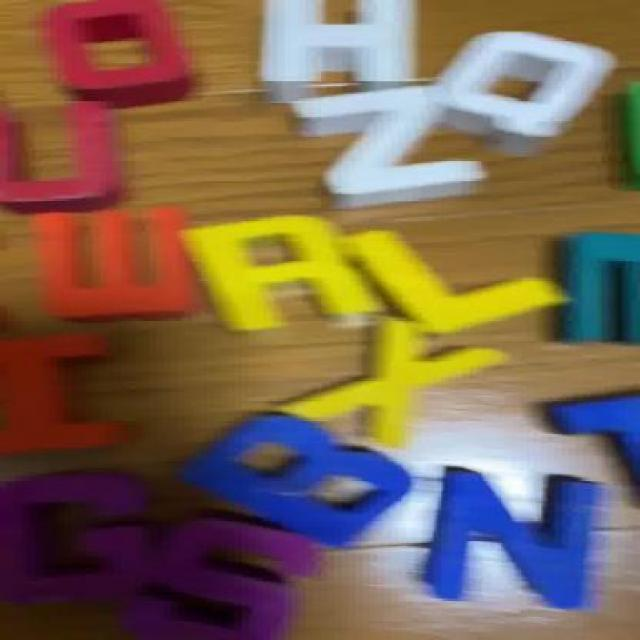B: (178, 419, 414, 533)
G: (0, 465, 151, 609)
L: (359, 222, 558, 344)
N: (420, 471, 605, 604)
O: (42, 0, 192, 102)
Q: (446, 32, 620, 148)
R: (188, 218, 364, 327)
S: (152, 520, 306, 640)
W: (34, 208, 197, 322)
X: (300, 322, 492, 446)
Z: (288, 91, 490, 206)
